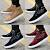shoe: (25, 28, 50, 48)
